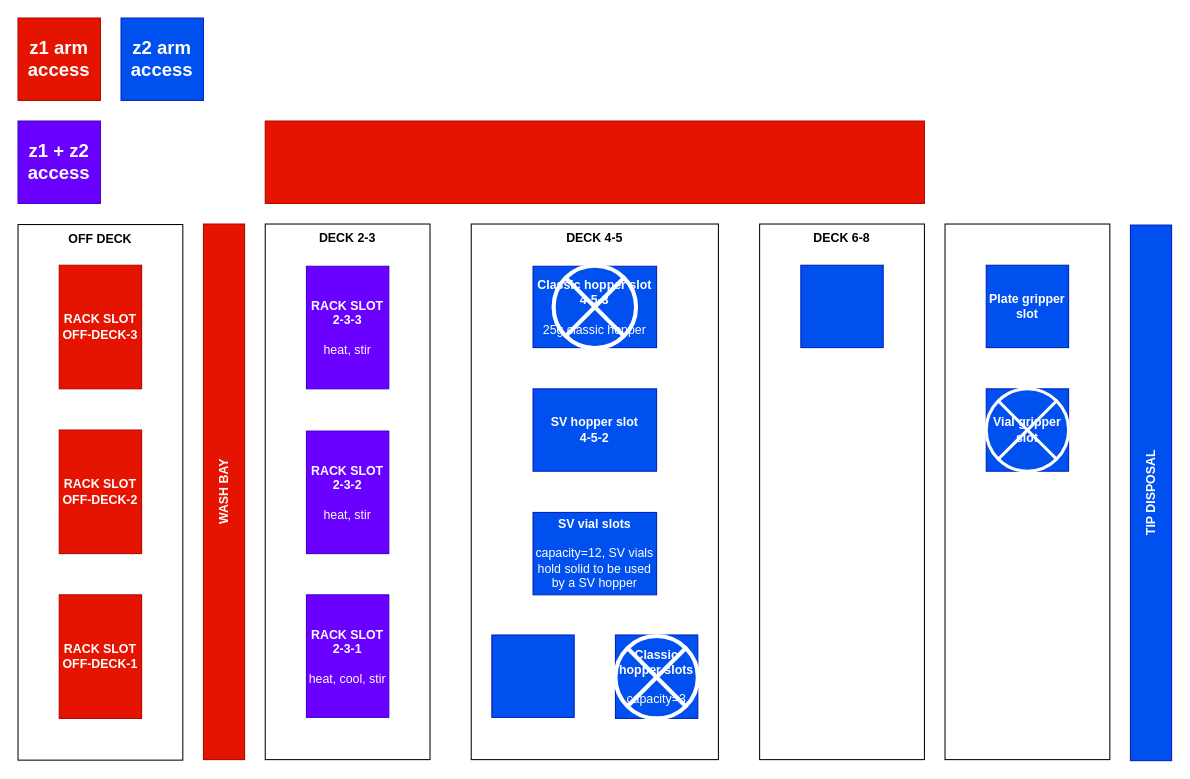
This 1190x779 diagram has some shape labels left out. Each missing label, with the centre of its shape:
"Balance" goes at pixel 841 306.
"PDT slots capacity=3" goes at pixel 532 675.
"Syringe pump liquid dispensing, concurrency = {1, 4, 6}, independent volumes" goes at pixel 594 161.
